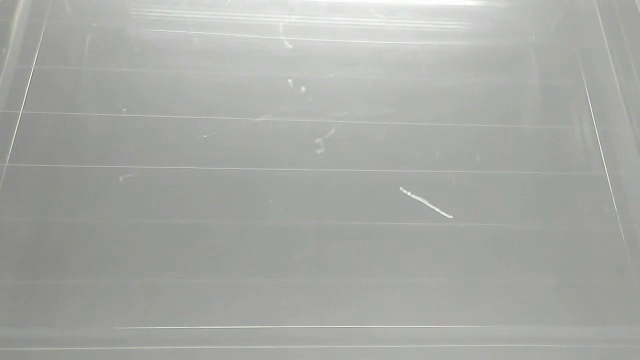alpha: (396, 184, 455, 222)
